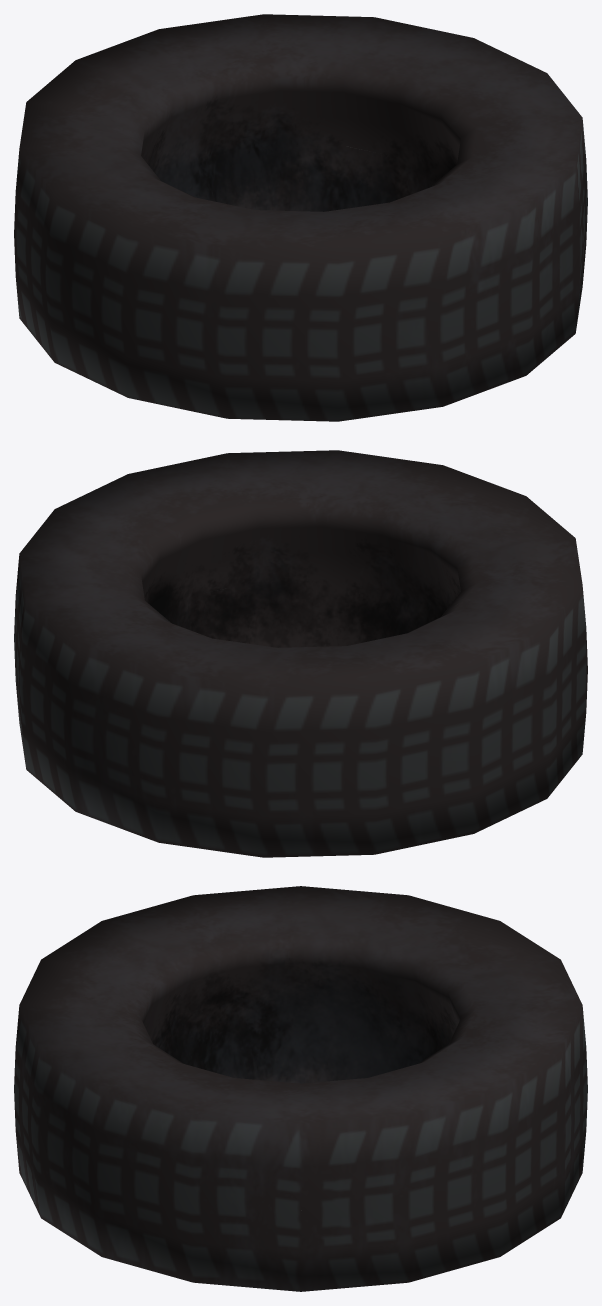
Rendered from Pneu.fbx.
The picture shows the model from 3 angles, top to bottom: view 1: azimuth 30°, elevation 25°; view 2: azimuth 150°, elevation 25°; view 3: azimuth 270°, elevation 25°; orthographic projection.
Parts seen in each view (by area): view 1: Pneu_low; view 2: Pneu_low; view 3: Pneu_low.
Part boxes in pixels (x1,y1,x2,y2): Pneu_low: (14, 14, 587, 421); Pneu_low: (14, 450, 587, 857); Pneu_low: (14, 886, 587, 1291).
Size of the model in its own units: 68.93 by 22.23 by 68.93.
